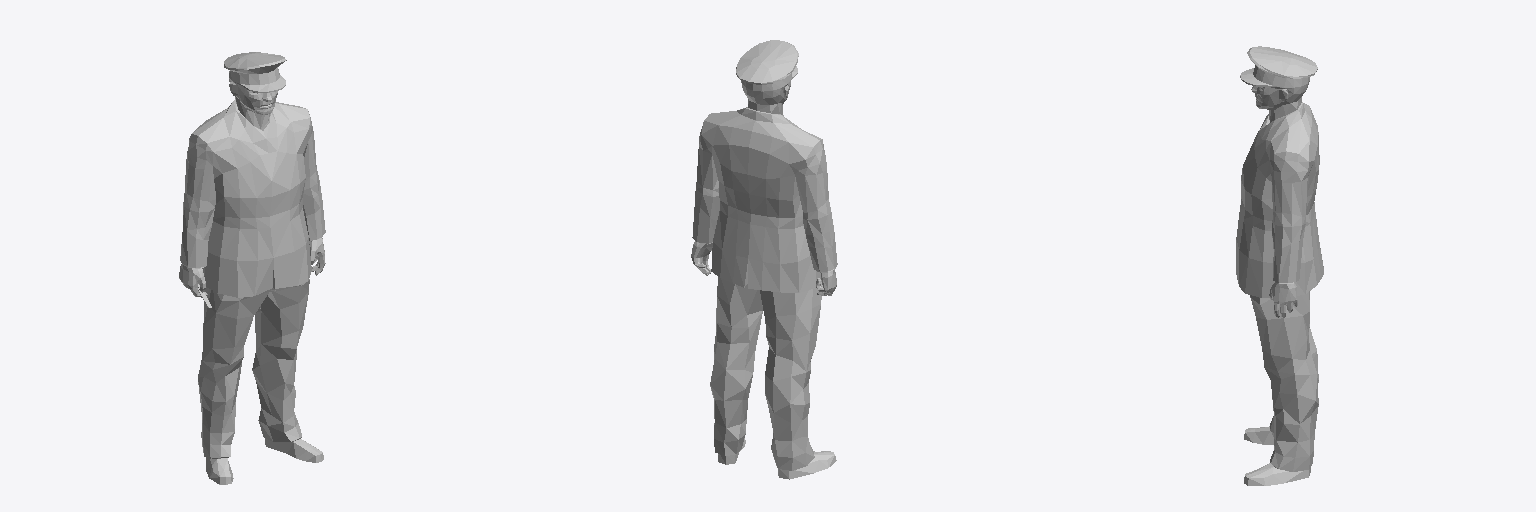
The model's file is Hiroshi Yamada (Ghost).obj.
3 views of the same model, side by side, from view 1: azimuth 30°, elevation 25°; view 2: azimuth 150°, elevation 25°; view 3: azimuth 270°, elevation 25° (orthographic).
Visible parts, largest first — view 1: polygon0_polygon0.001; view 2: polygon0_polygon0.001; view 3: polygon0_polygon0.001.
Part boxes in pixels (bbox=[...]): polygon0_polygon0.001: bbox=[179, 52, 325, 484]; polygon0_polygon0.001: bbox=[691, 40, 837, 479]; polygon0_polygon0.001: bbox=[1236, 46, 1323, 485].
Bounding box in the file's own units: 0.6644 × 1.83 × 0.361.